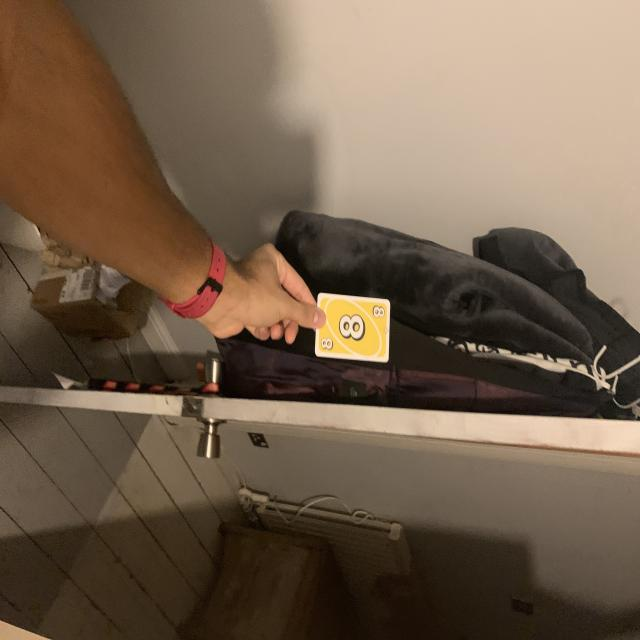lyellow-8: (370, 300, 386, 324)
